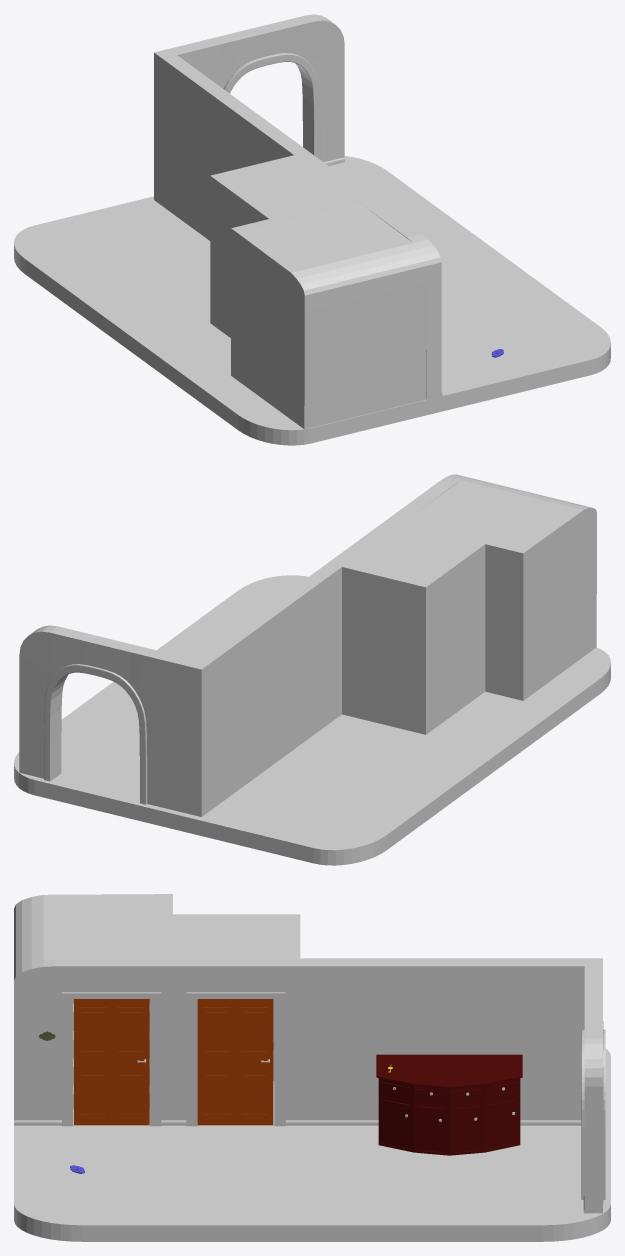
Rendered from Corridoio.fbx.
3 views of the same model, one above another, from view 1: azimuth 30°, elevation 25°; view 2: azimuth 150°, elevation 25°; view 3: azimuth 270°, elevation 25° (orthographic). The views are drawn at different scales.
Visible parts, largest first — view 1: Pavimento, Soffitta_scale, Muro, Sgabuzzino, Arco; view 2: Pavimento, Muro, Sgabuzzino, Soffitta_scale, Arco; view 3: Pavimento, Muro, Mobile, Soffitta_scale, Porta_sgabuzzino, Porta_soffitta, Sgabuzzino, Muro.002, Muro.001, Battiscopa, Arco.
Boxes of the visible parts, box(x1,y1,x2,y2) form: Pavimento: box(14, 156, 610, 445); Soffitta_scale: box(231, 198, 426, 429); Muro: box(154, 14, 441, 399); Sgabuzzino: box(210, 155, 352, 337); Arco: box(223, 53, 320, 159); Pavimento: box(14, 575, 610, 865); Muro: box(19, 474, 469, 816); Sgabuzzino: box(342, 523, 485, 734); Soffitta_scale: box(401, 478, 596, 700); Arco: box(44, 664, 147, 804); Pavimento: box(14, 1048, 610, 1241); Muro: box(14, 958, 603, 1213); Mobile: box(376, 1054, 522, 1155); Soffitta_scale: box(14, 894, 172, 972); Porta_sgabuzzino: box(197, 999, 273, 1125); Porta_soffitta: box(74, 999, 149, 1125); Sgabuzzino: box(173, 914, 300, 1080); Muro.002: box(186, 992, 285, 1126); Muro.001: box(62, 992, 161, 1126); Battiscopa: box(14, 1120, 584, 1213); Arco: box(581, 1029, 605, 1199).
Size of the model in its own units: 642 by 276 by 850.
